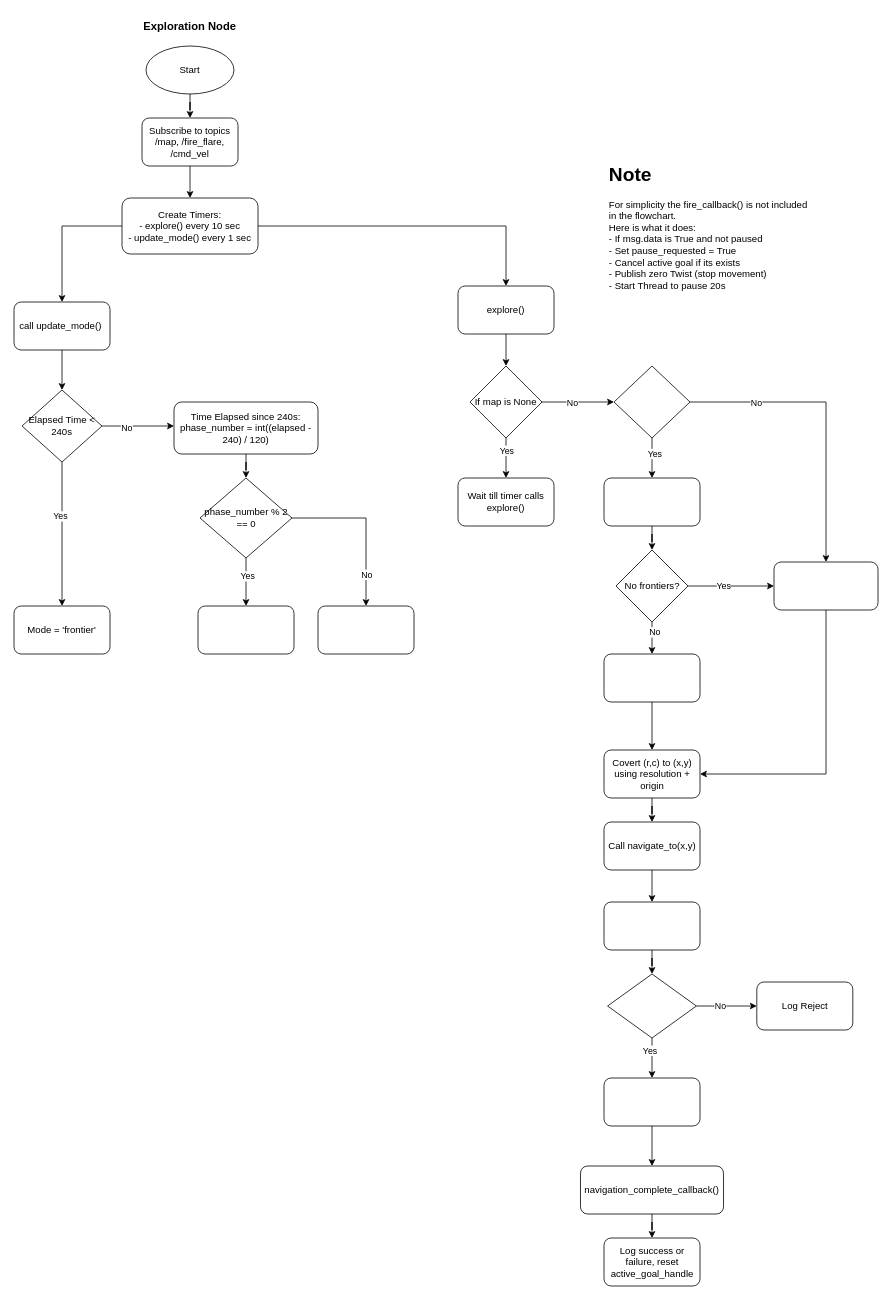
This 892x1300 diagram has some shape labels left out. The box of each missing label's shape, as (x1, y1, x2, y2) in pixels:
choose_random_point(): (773, 561, 878, 610)
find_frontiers(): (603, 477, 700, 526)
Goal accepted?: (607, 973, 696, 1038)
Mode = 'frontier: (317, 605, 414, 654)
Mode = 'random': (197, 605, 294, 654)
Mode == 'frontier': (613, 365, 690, 438)
Pick random frontier: (603, 653, 700, 702)
Send goal to NavigateToPose: (603, 901, 700, 950)
Wait for result: (603, 1077, 700, 1126)
